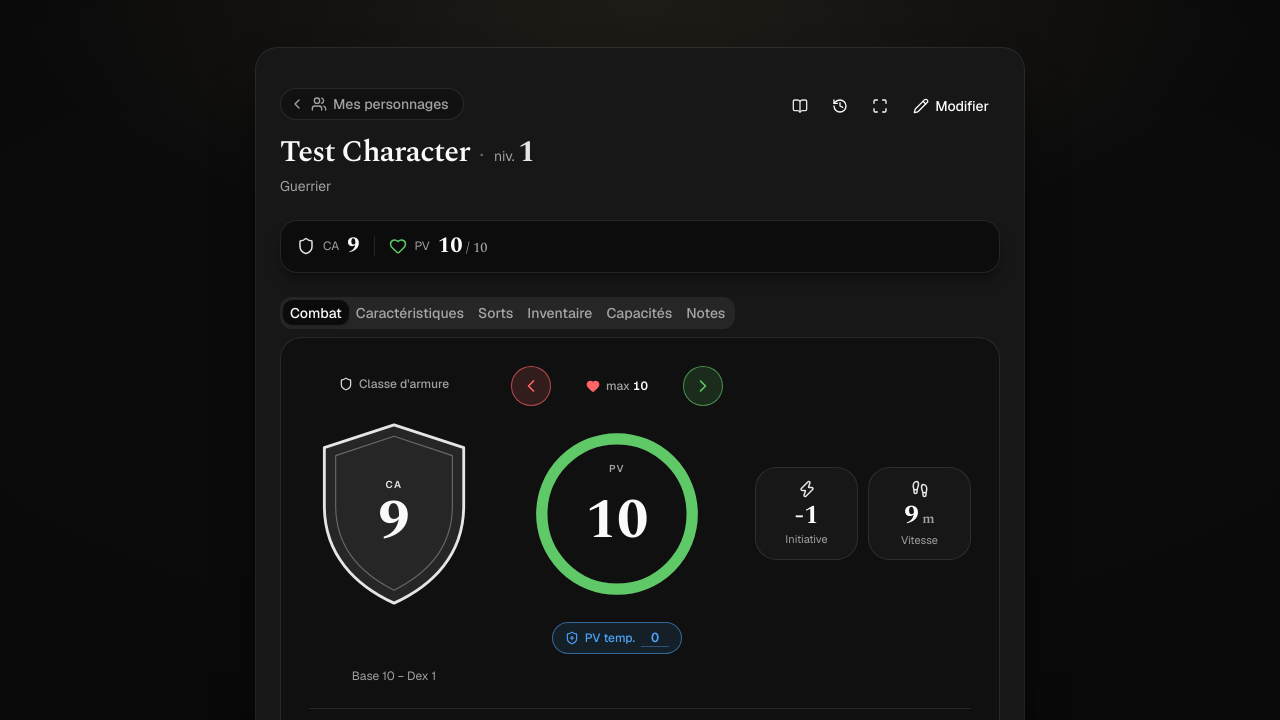
Test case: CharacterPlay › lists the automatically applied rules and the free notes in the Notes tab
Check: the heading "Test Character" is shown, box [280,134,470,170]
Click the tab "Notes": x=706, y=313 [679,300,732,325]
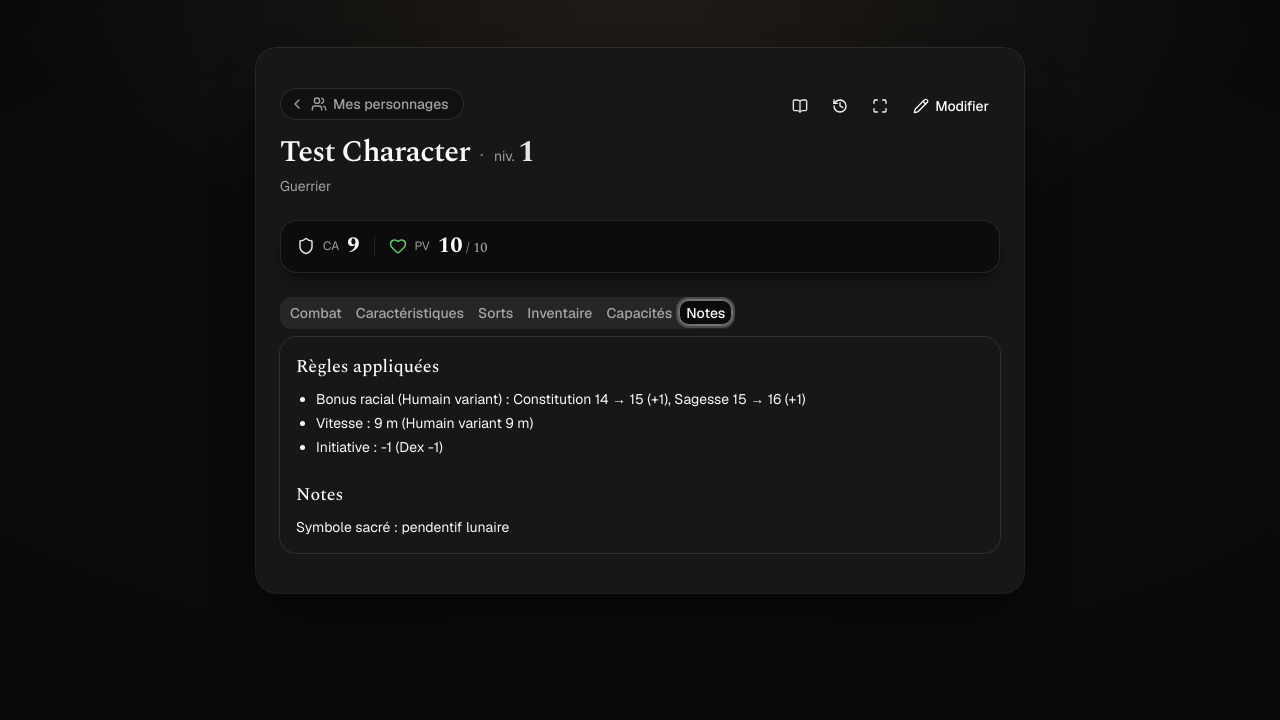
Check: the list item "Bonus racial (Humain variant) : Constitution 14 → 15 (+1), Sagesse 15 → 16 (+1)" is shown, box [316,390,806,408]
Check: the text "Symbole sacré : pendentif lunaire" is shown, box [296,518,509,536]
